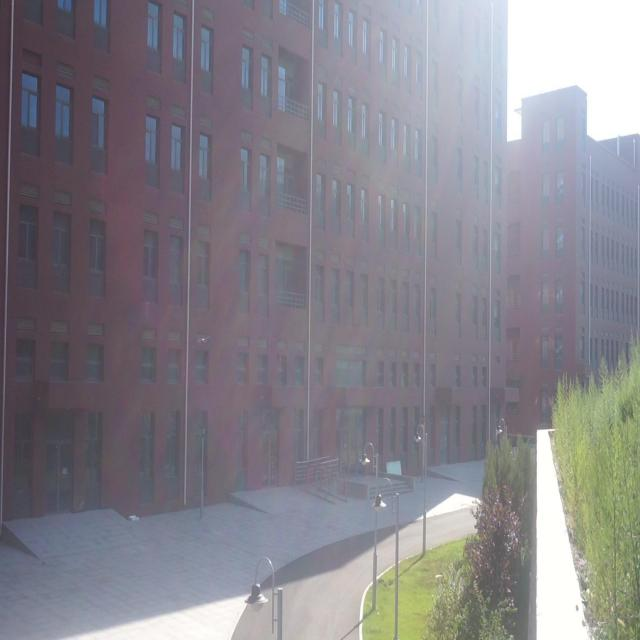UAV: (196, 336, 210, 344)
